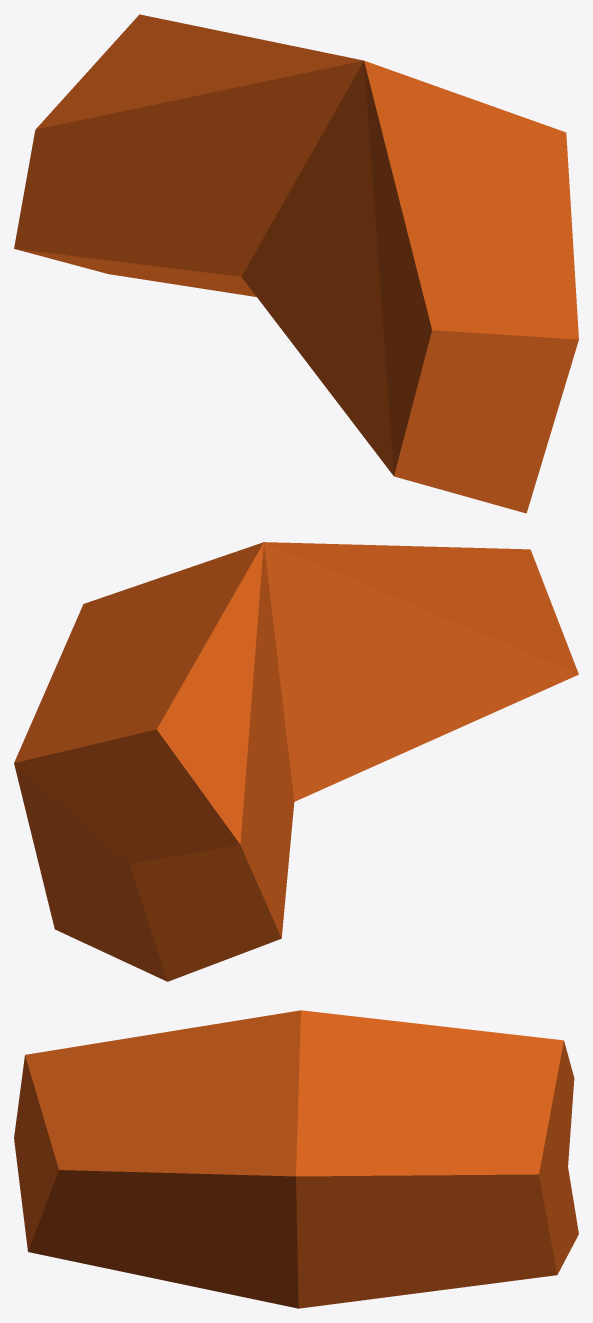
Rendered from pumpkinSlice.fbx.
The picture shows the model from 3 angles, top to bottom: view 1: azimuth 30°, elevation 25°; view 2: azimuth 150°, elevation 25°; view 3: azimuth 270°, elevation 25°; orthographic projection. The views are drawn at different scales.
Parts seen in each view (by area): view 1: pumpkinSlice; view 2: pumpkinSlice; view 3: pumpkinSlice.
Boxes of the visible parts, x1=… form: pumpkinSlice: x1=14, y1=14, x2=578, y2=513; pumpkinSlice: x1=14, y1=542, x2=578, y2=981; pumpkinSlice: x1=14, y1=1010, x2=578, y2=1308.
Bounding box in the file's own units: 10.21 × 8.31 × 16.86.
Materials: 1 (1 with a texture image).
